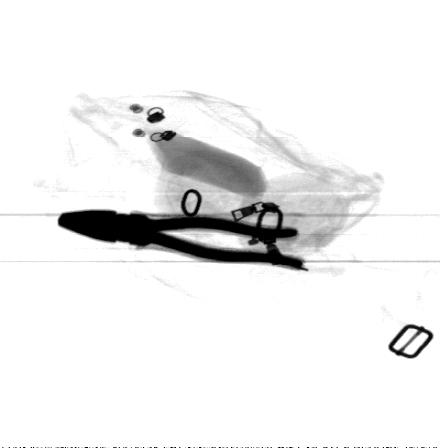Pliers: (55, 208, 306, 273)
